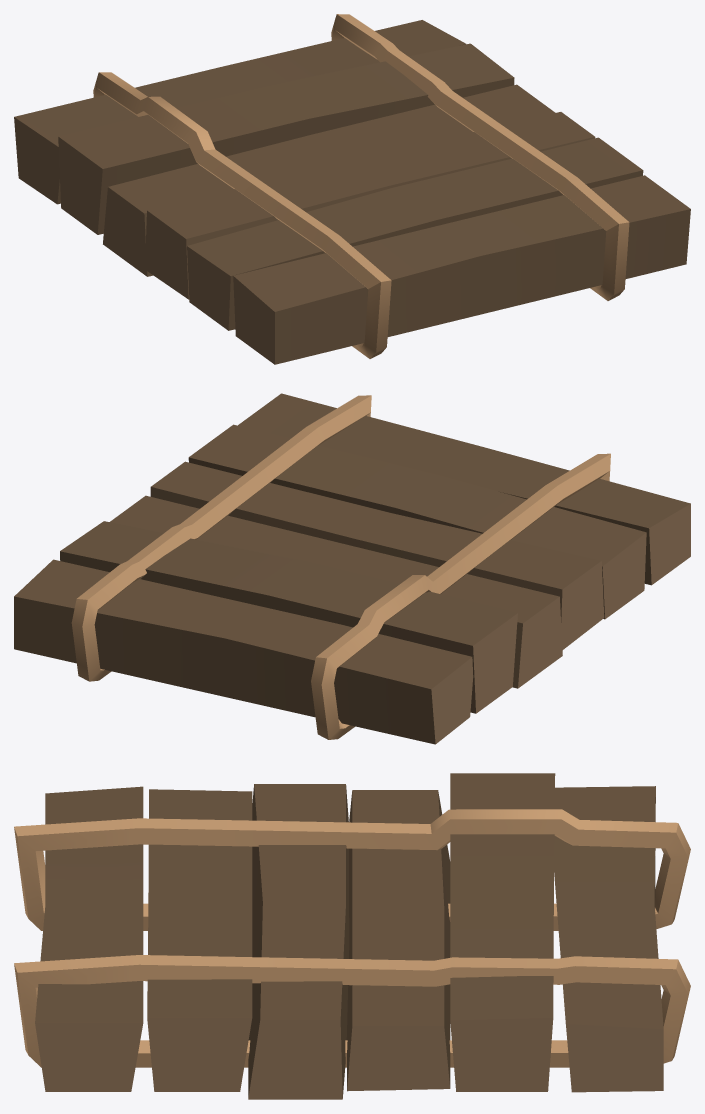
Rendered from Wood.FBX.
3 views of the same model, one above another, from view 1: azimuth 30°, elevation 25°; view 2: azimuth 150°, elevation 25°; view 3: azimuth 270°, elevation 25° (orthographic). The views are drawn at different scales.
Parts seen in each view (by area): view 1: Wood; view 2: Wood; view 3: Wood.
Boxes of the visible parts, x1,y1,x2,y2 form: Wood: (14,14,690,364); Wood: (14,393,690,744); Wood: (14,773,690,1099).
Size of the model in its own units: 519 by 120 by 624.
